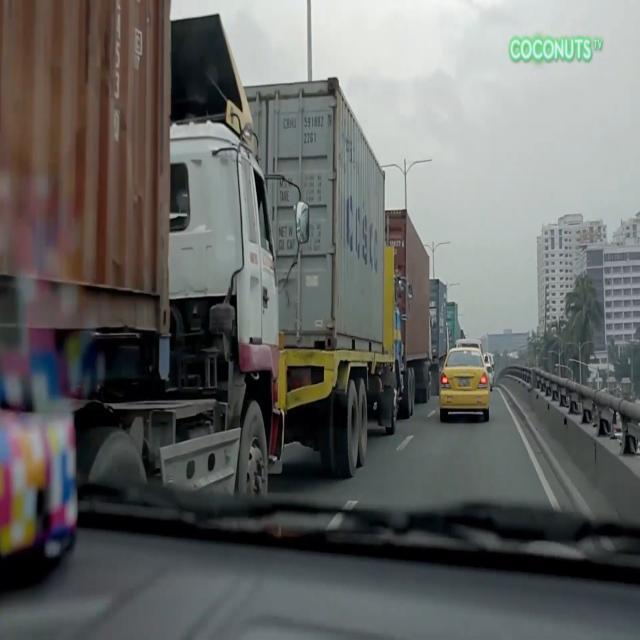truck: (0, 0, 308, 502), (245, 79, 404, 478), (384, 206, 432, 414)
